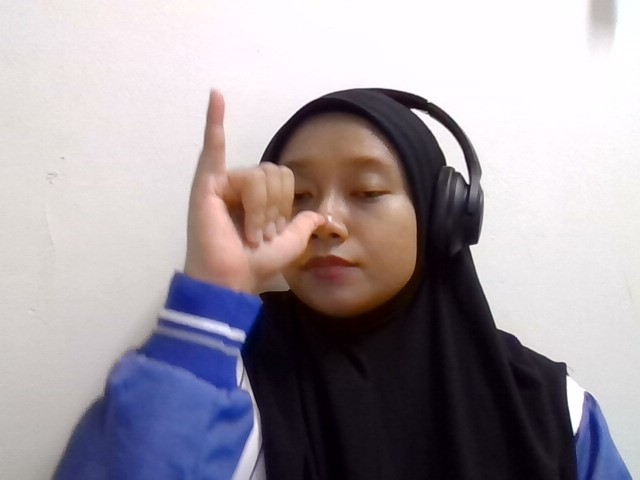BadakSumbu: (185, 87, 360, 287)
